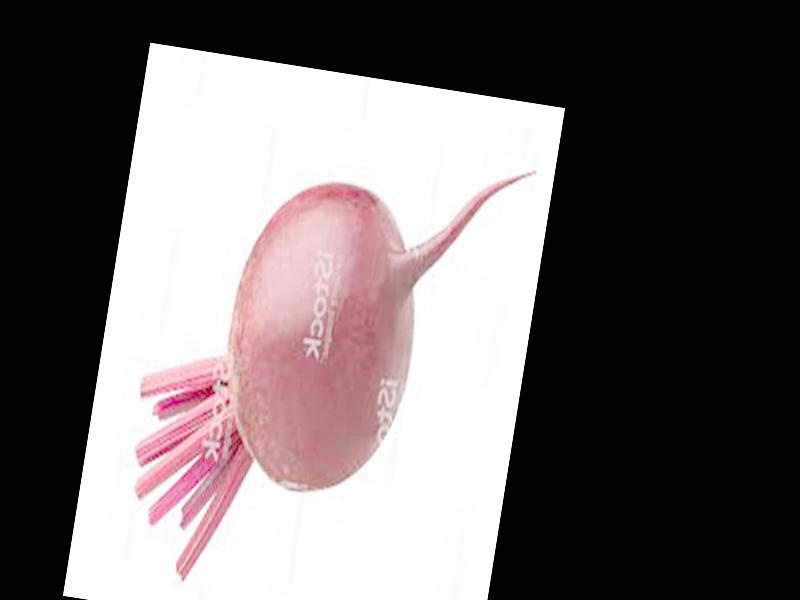Beet: (111, 113, 530, 600)
